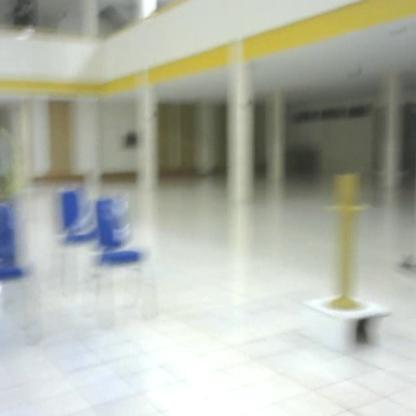pole: (322, 169, 371, 318)
